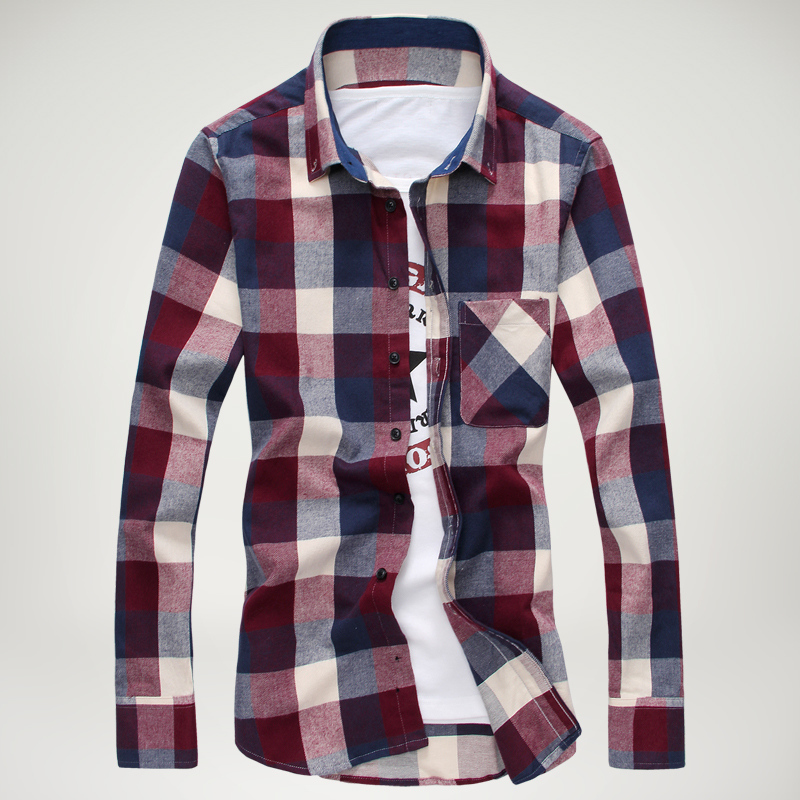Shirt: (109, 12, 719, 792)
